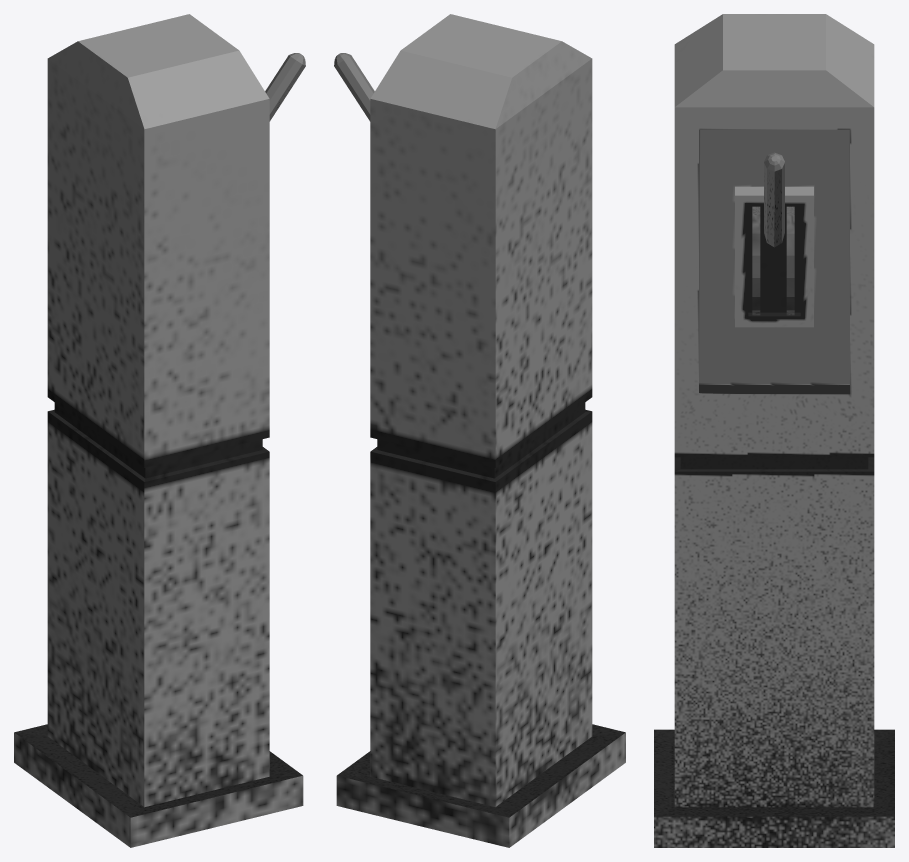
File: lever.fbx
3 renders of one model, left to right at view 1: azimuth 30°, elevation 25°; view 2: azimuth 150°, elevation 25°; view 3: azimuth 270°, elevation 25°, orthographic. The views are drawn at different scales.
Visible parts, largest first — view 1: Cube, Cylinder; view 2: Cube, Cylinder; view 3: Cube, Cylinder.
Boxes of the visible parts, bbox=[...] form: Cube: bbox=[14, 14, 303, 847]; Cylinder: bbox=[265, 53, 305, 121]; Cube: bbox=[336, 14, 625, 847]; Cylinder: bbox=[334, 53, 374, 121]; Cube: bbox=[654, 14, 894, 847]; Cylinder: bbox=[764, 152, 784, 247].
Size of the model in its own units: 95.97 by 335 by 110.
